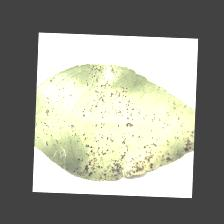canker: (67, 77, 158, 170)
